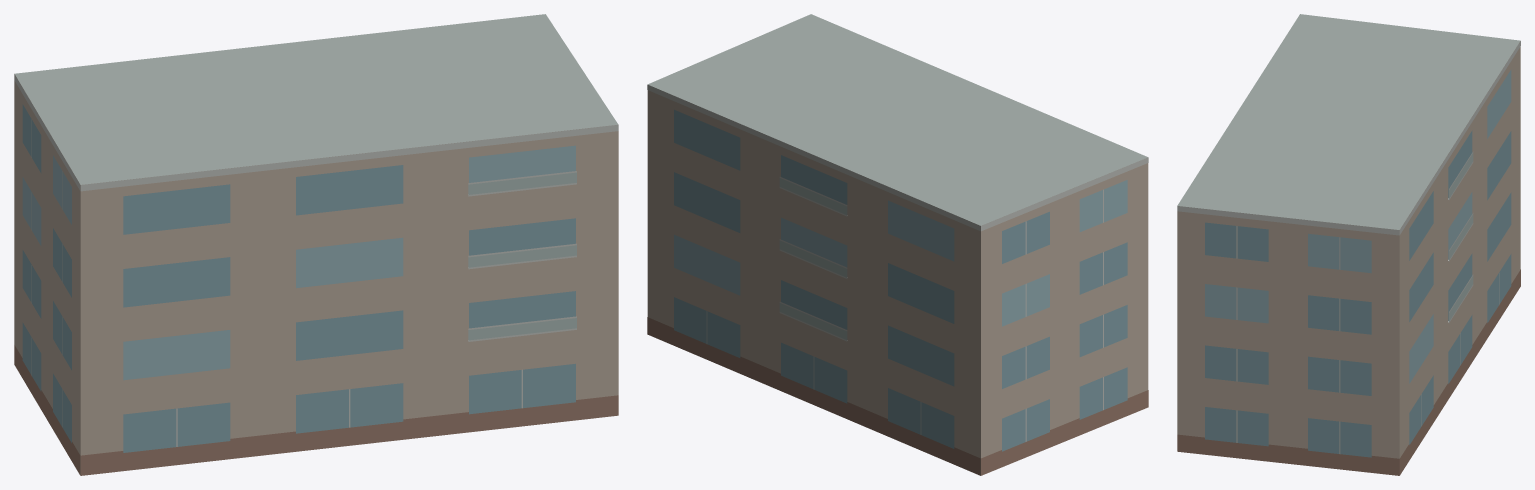
The model's file is survey-upis-32736793.glb.
The picture shows the model from 3 angles, left to right: view 1: azimuth 30°, elevation 25°; view 2: azimuth 150°, elevation 25°; view 3: azimuth 270°, elevation 25°; orthographic projection. The views are drawn at different scales.
Visible parts, largest first — view 1: survey-upis-32736793.tmp; view 2: survey-upis-32736793.tmp; view 3: survey-upis-32736793.tmp.
Boxes of the visible parts, x1,y1,x2,y2 form: survey-upis-32736793.tmp: [14, 14, 618, 475]; survey-upis-32736793.tmp: [647, 14, 1148, 475]; survey-upis-32736793.tmp: [1177, 14, 1520, 475].
Size of the model in its own units: 20.84 by 11.05 by 14.01.
